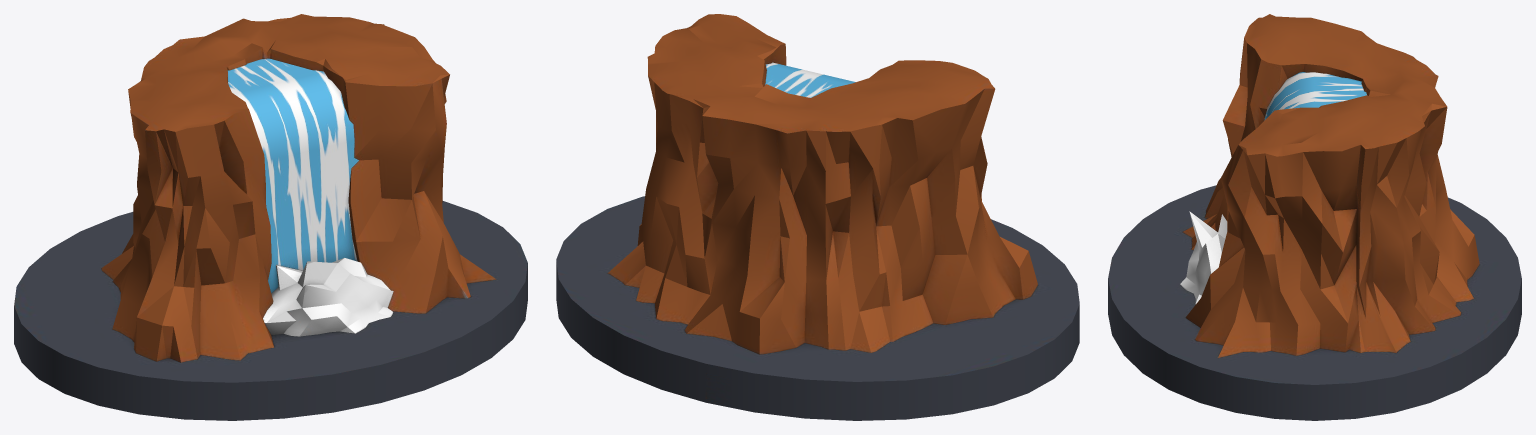
Rendered from victoria_falls.glb.
3 renders of one model, left to right at view 1: azimuth 30°, elevation 25°; view 2: azimuth 150°, elevation 25°; view 3: azimuth 270°, elevation 25°, orthographic. The views are drawn at different scales.
Visible parts, largest first — view 1: Victoria falls; view 2: Victoria falls; view 3: Victoria falls.
Part boxes in pixels (x1=…): Victoria falls: x1=14, y1=14, x2=527, y2=420; Victoria falls: x1=556, y1=14, x2=1079, y2=420; Victoria falls: x1=1108, y1=14, x2=1521, y2=420.
Bounding box in the file's own units: 0.0574 × 0.0299 × 0.0471.
1 material, 1 textured.
